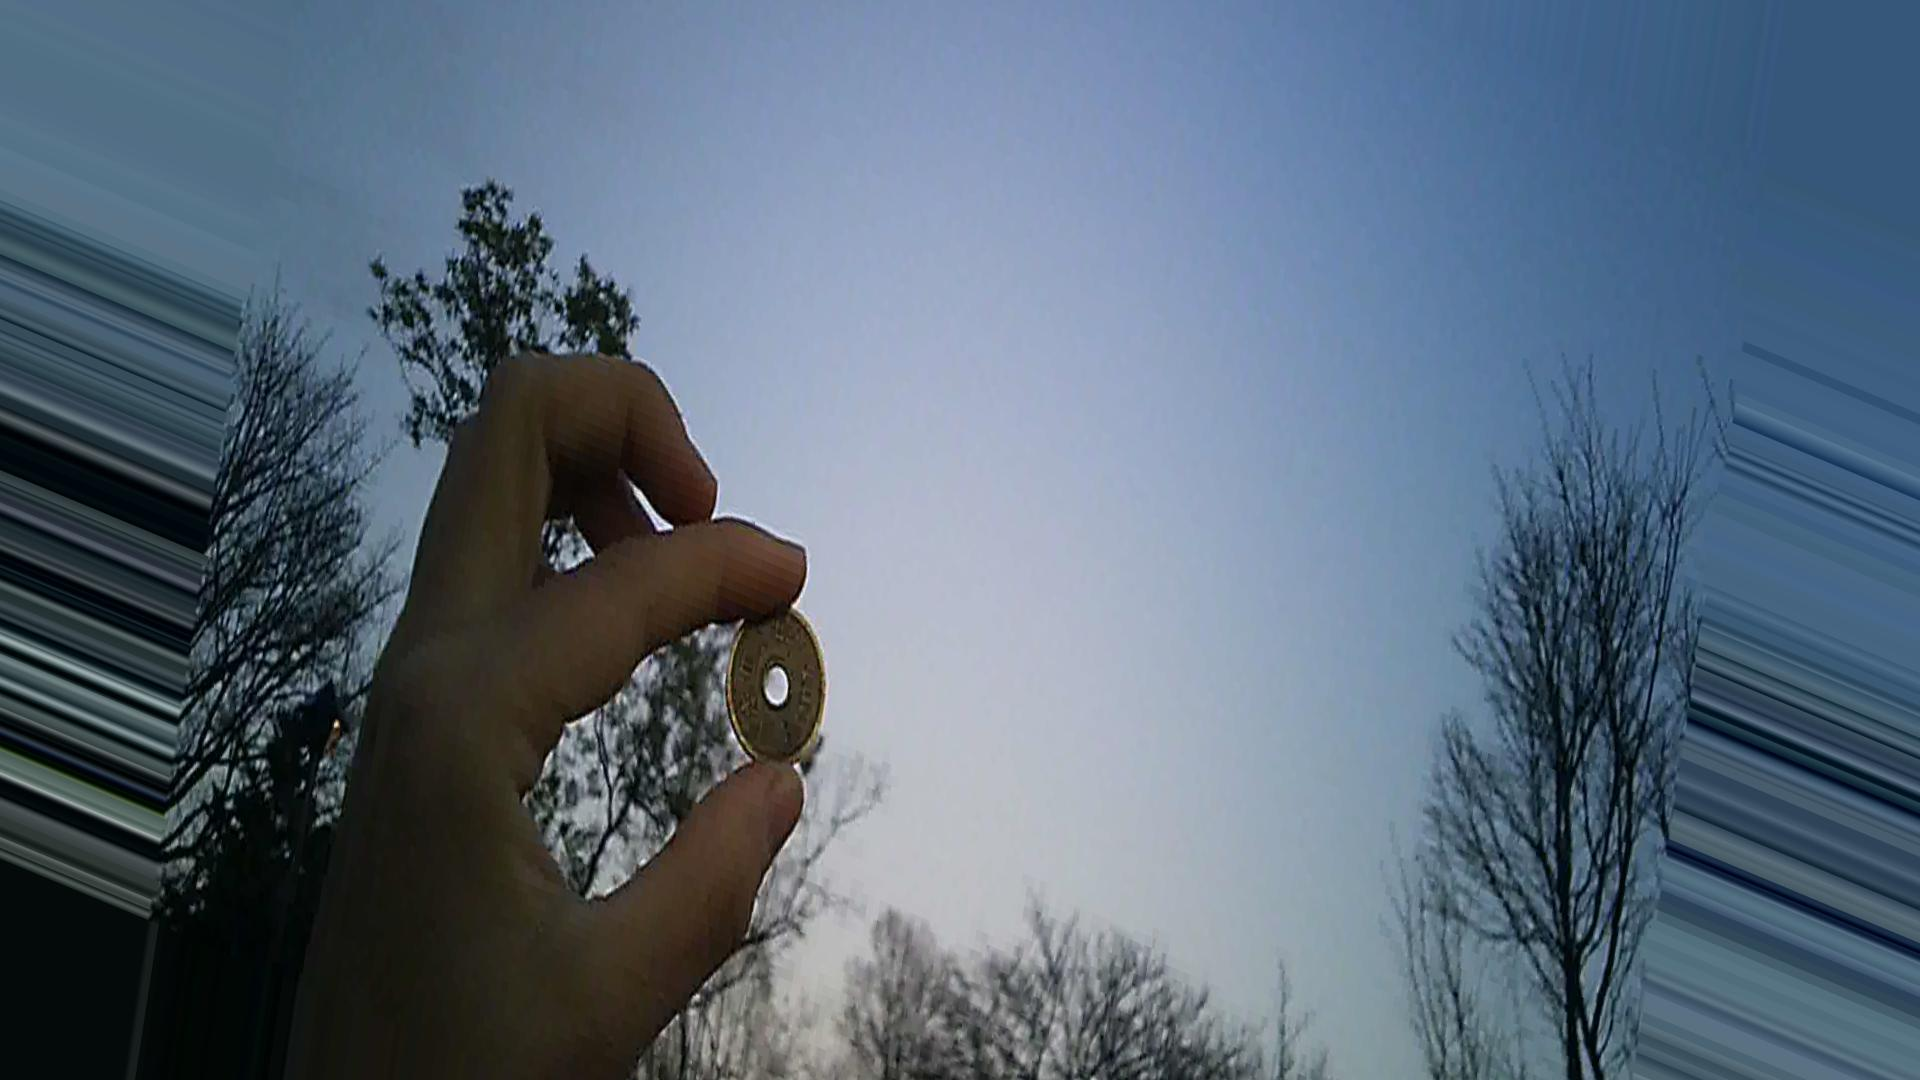5 Yen: (713, 592, 837, 769)
